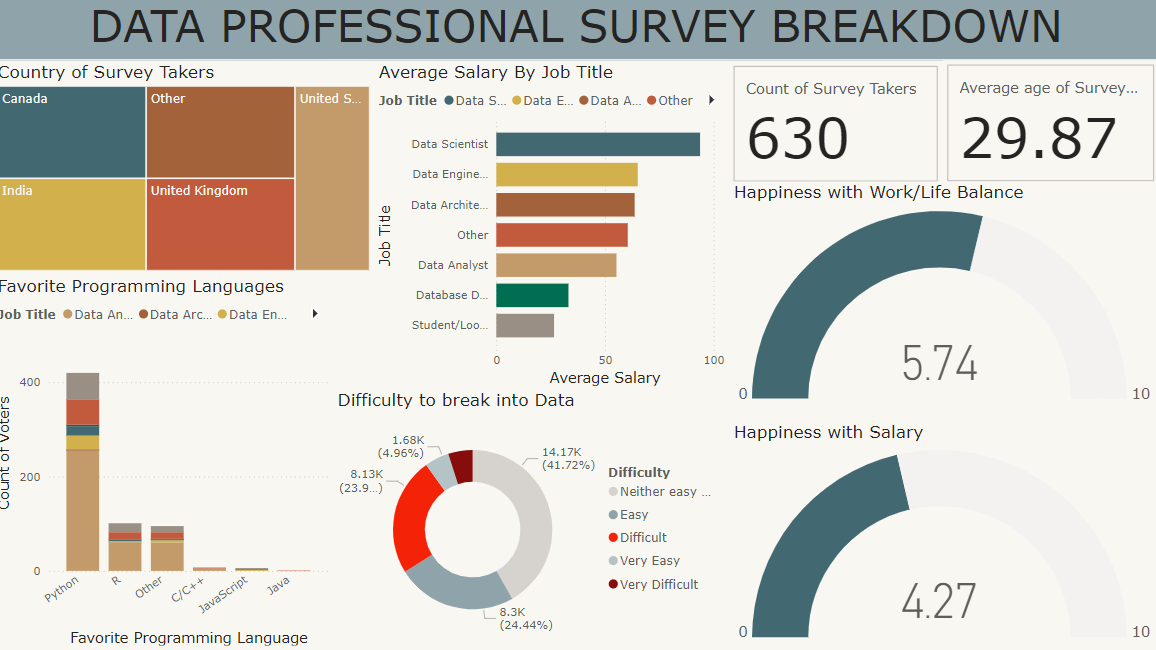

The dashboard page shown, as its layout file describes it:
{"tool":"powerbi","page":{"name":"Page 1","canvas":[1280,720],"ordinal":0},"visuals":[{"type":"textbox","box":[0,0,1280.3,72.7],"z":0},{"type":"cardVisual","fields":{"Data":["CountNonNull(Data Professional Survey (2).Unique ID)"]},"box":[808.2,74.1,234.6,137.2],"z":1},{"type":"cardVisual","fields":{"Data":["Avg(Data Professional Survey (2).Q10 - Current Age)"]},"box":[1042.9,72.7,237.4,138.6],"z":2},{"type":"barChart","title":"Average Salary By Job Title","fields":{"Category":["Data Professional Survey (2).Q1 - Which Title Best Fits your Current Role?.1"],"Y":["Avg(Data Professional Survey (2).Average Salary)"],"Series":["Data Professional Survey (2).Q1 - Which Title Best Fits your Current Role?.1"]},"box":[418.5,74.1,389.7,360.9],"z":3},{"type":"columnChart","title":"Favorite Programming Languages","fields":{"Category":["Data Professional Survey (2).Q5 - Favorite Programming Language.1"],"Y":["CountNonNull(Data Professional Survey (2).Unique ID)"],"Series":["Data Professional Survey (2).Q1 - Which Title Best Fits your Current Role?.1"]},"box":[0,308.7,373.2,411.7],"z":4},{"type":"treemap","title":"Country of Survey Takers","fields":{"Group":["Data Professional Survey (2).Q11 - Which Country do you live in?.1"],"Values":["Count(Data Professional Survey (2).Q11 - Which Country do you live in?.1)"]},"box":[0,74.1,418.5,234.6],"z":5},{"type":"gauge","title":"Happiness with Work/Life Balance","fields":{"Y":["Avg(Data Professional Survey (2).Q6 - How Happy are you in your Current Position with the following? (Work/Life Balance)"],"MinValue":["Min(Data Professional Survey (2).Q6 - How Happy are you in your Current Position with the following? (Work/Life Balance)"],"MaxValue":["Max(Data Professional Survey (2).Q6 - How Happy are you in your Current Position with the following? (Work/Life Balance)"]},"box":[808.2,205.8,472,253.9],"z":6},{"type":"gauge","title":"Happiness with Salary","fields":{"Y":["Avg(Data Professional Survey (2).Q6 - How Happy are you in your Current Position with the following? (Salary))"],"MinValue":["Min(Data Professional Survey (2).Q6 - How Happy are you in your Current Position with the following? (Salary))"],"MaxValue":["Max(Data Professional Survey (2).Q6 - How Happy are you in your Current Position with the following? (Salary))"]},"box":[808.2,469.3,472,251.1],"z":7},{"type":"donutChart","title":"Difficulty to break into Data","fields":{"Category":["Data Professional Survey (2).Q7 - How difficult was it for you to break into Data?"],"Y":["Sum(Data Professional Survey (2).Average Salary)"]},"box":[373.2,433.6,435,286.8],"z":8}]}

Visuals, with their boxes in screenshot pixels (x1, y1, x2, y2), scaled from the page's 1280x720 canvas onto the 1156x650 screenshot:
textbox: {"left": 0, "top": 0, "right": 1155, "bottom": 66}
cardVisual - CountNonNull(Data Professional Survey (2).Unique ID): {"left": 730, "top": 67, "right": 942, "bottom": 191}
cardVisual - Avg(Data Professional Survey (2).Q10 - Current Age): {"left": 942, "top": 66, "right": 1155, "bottom": 191}
"Average Salary By Job Title" barChart: {"left": 378, "top": 67, "right": 730, "bottom": 393}
"Favorite Programming Languages" columnChart: {"left": 0, "top": 279, "right": 337, "bottom": 649}
"Country of Survey Takers" treemap: {"left": 0, "top": 67, "right": 378, "bottom": 279}
"Happiness with Work/Life Balance" gauge: {"left": 730, "top": 186, "right": 1155, "bottom": 415}
"Happiness with Salary" gauge: {"left": 730, "top": 424, "right": 1155, "bottom": 649}
"Difficulty to break into Data" donutChart: {"left": 337, "top": 391, "right": 730, "bottom": 649}
